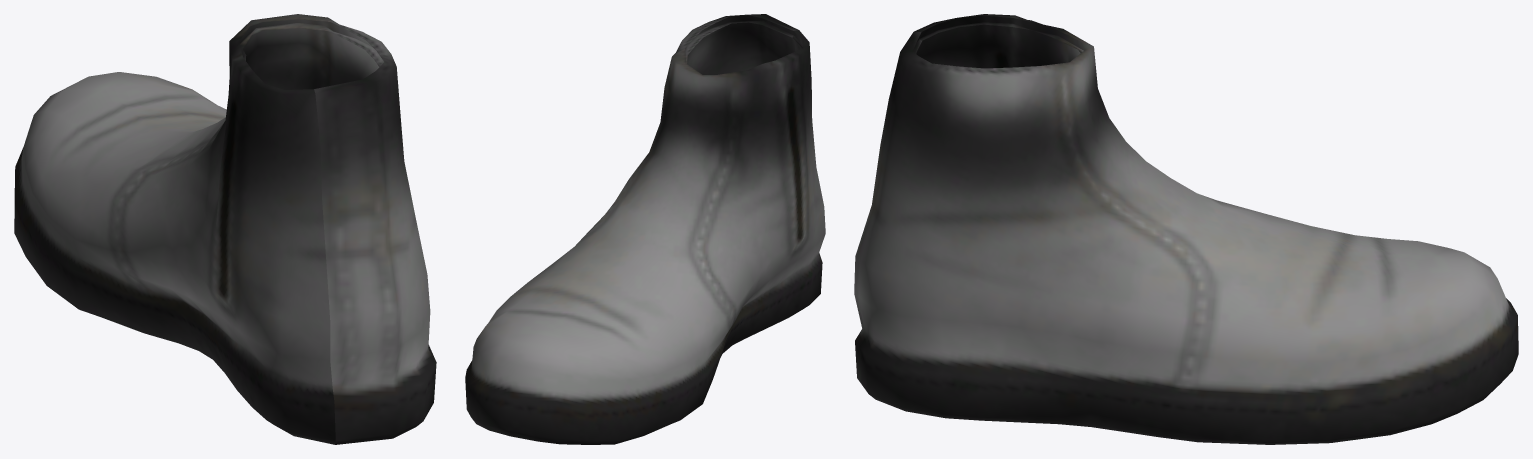
File: Stormtrooper_BootR.fbx
The picture shows the model from 3 angles, left to right: view 1: azimuth 30°, elevation 25°; view 2: azimuth 150°, elevation 25°; view 3: azimuth 270°, elevation 25°; orthographic projection. The views are drawn at different scales.
Visible parts, largest first — view 1: BootR; view 2: BootR; view 3: BootR.
Boxes of the visible parts, box(x1,y1,x2,y2) form: BootR: box(14, 14, 436, 444); BootR: box(465, 14, 825, 444); BootR: box(854, 14, 1518, 444).
Bounding box in the file's own units: 0.1564 × 0.208 × 0.3715.
